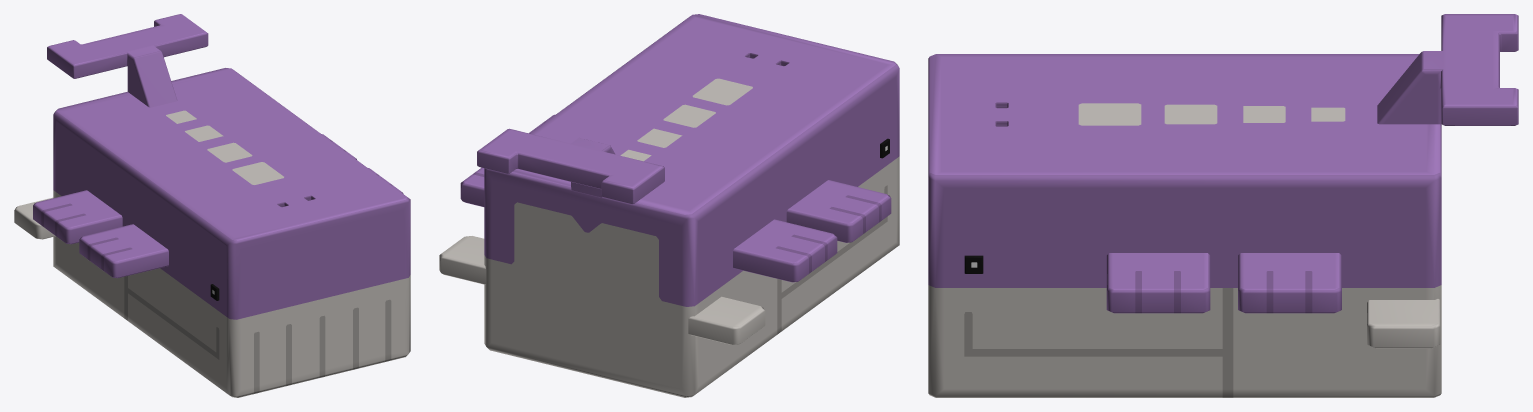
3 renders of one model, left to right at view 1: azimuth 30°, elevation 25°; view 2: azimuth 150°, elevation 25°; view 3: azimuth 270°, elevation 25°, orthographic. The views are drawn at different scales.
Visible parts, largest first — view 1: model; view 2: model; view 3: model.
Boxes of the visible parts, box(x1,y1,x2,y2) form: model: box(14, 14, 410, 397); model: box(439, 14, 899, 397); model: box(928, 14, 1518, 397).
Size of the model in its own units: 3.56 by 2.29 by 4.42.
